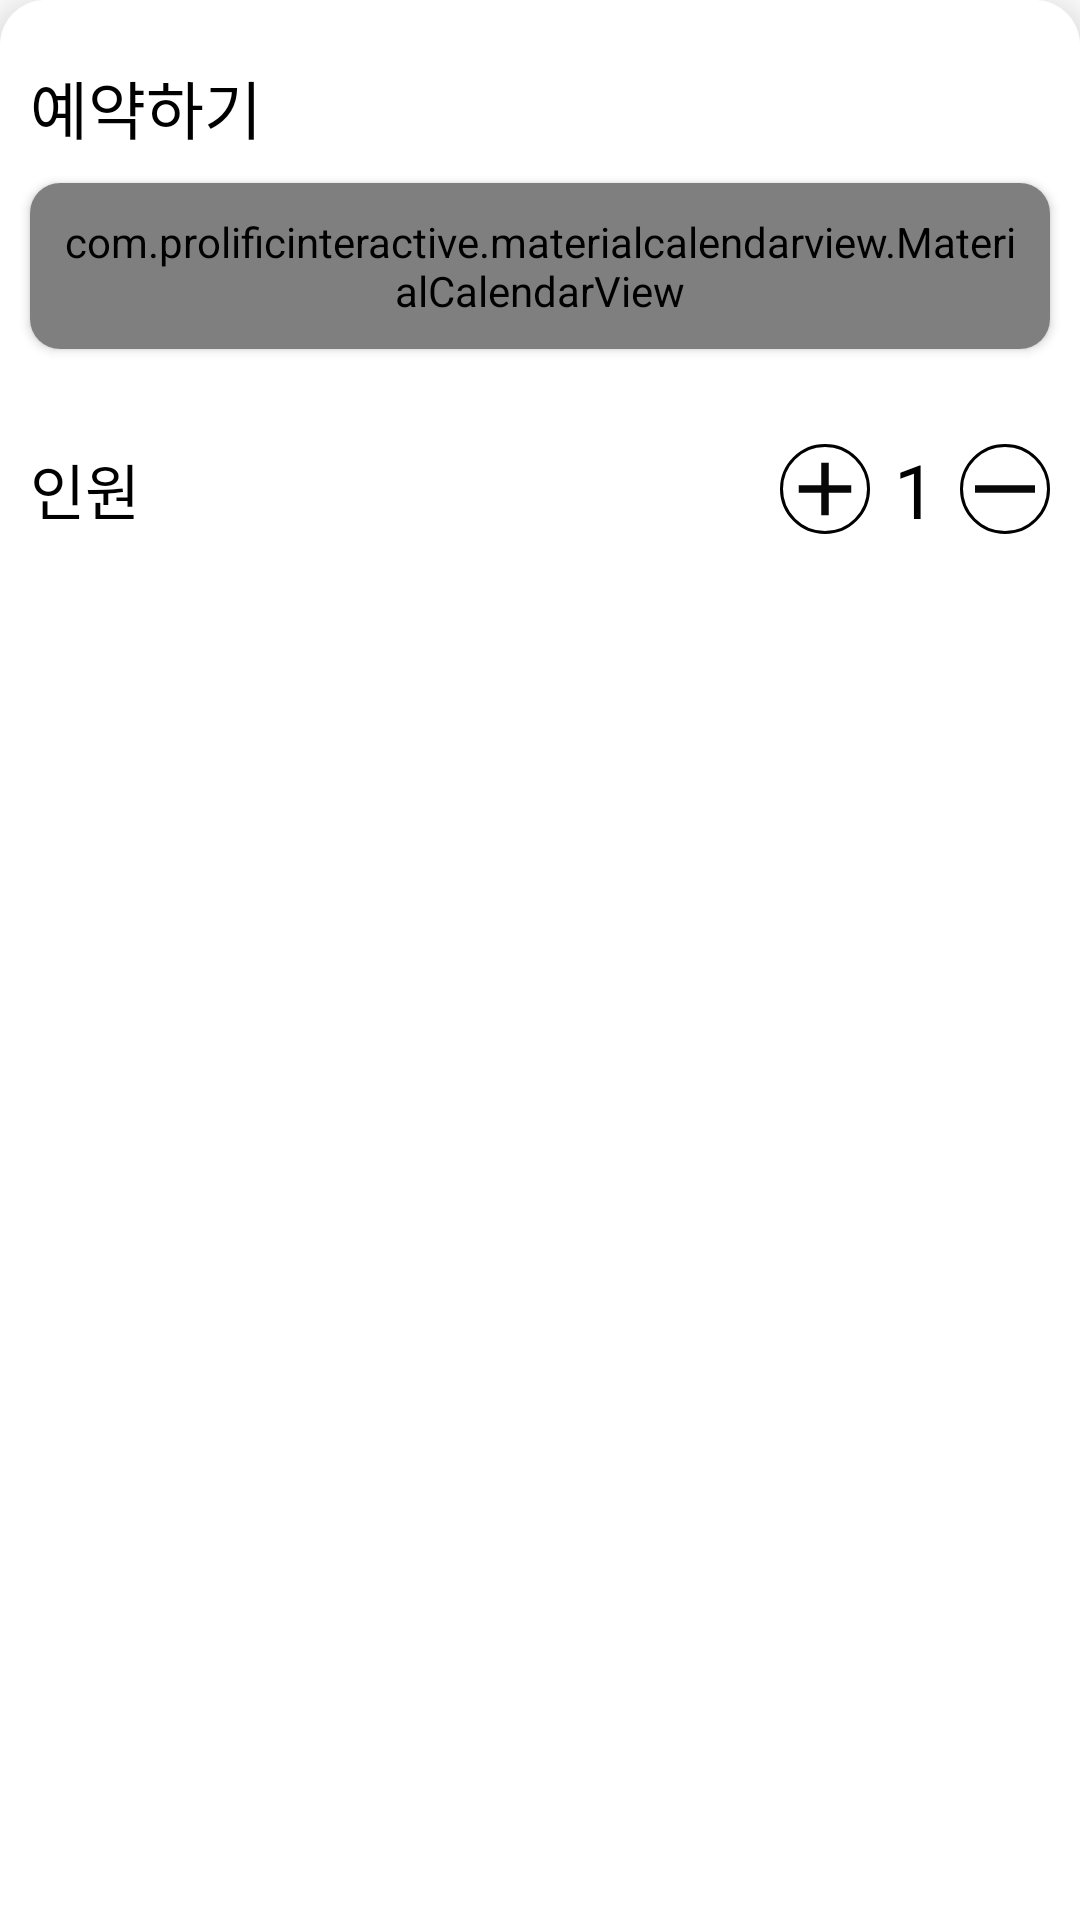

Icons on this 1080×1920 Android screen, each with its box as (x1, y1, x2, y2):
minus: (960, 444, 1050, 534)
plus: (780, 444, 870, 534)
